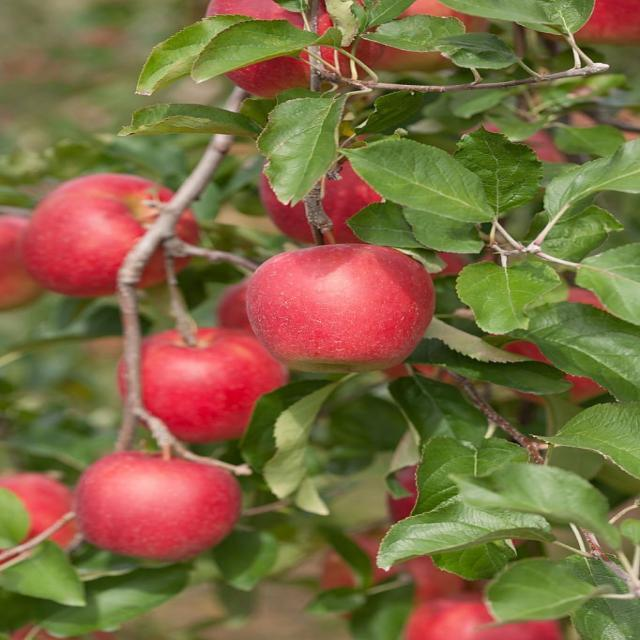Red Apple: (244, 244, 446, 364), (36, 174, 188, 299), (87, 451, 237, 570), (124, 333, 284, 434), (262, 141, 403, 245), (212, 1, 360, 97), (503, 298, 618, 394), (372, 1, 491, 77), (328, 534, 450, 606), (405, 598, 564, 640), (1, 478, 81, 554), (563, 1, 640, 71), (1, 205, 46, 313), (378, 457, 432, 541)
